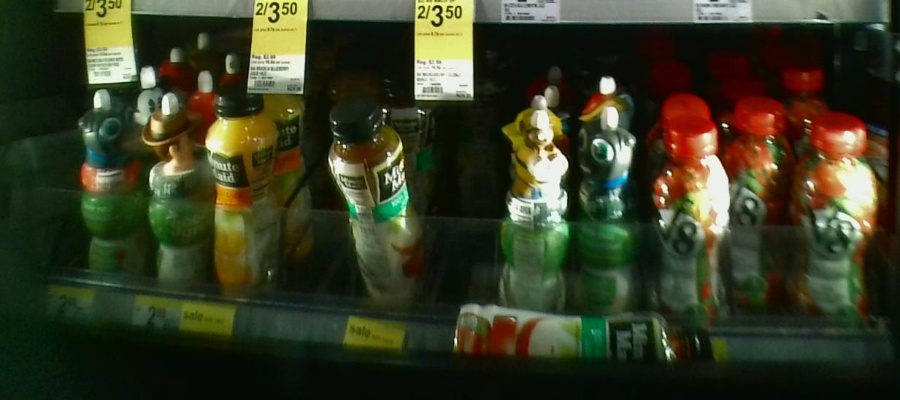bottle: (328, 91, 423, 317), (796, 115, 880, 329), (496, 105, 576, 318), (207, 84, 278, 313), (649, 121, 727, 324), (143, 80, 207, 301), (76, 87, 142, 301), (579, 108, 645, 313), (732, 94, 788, 313)
